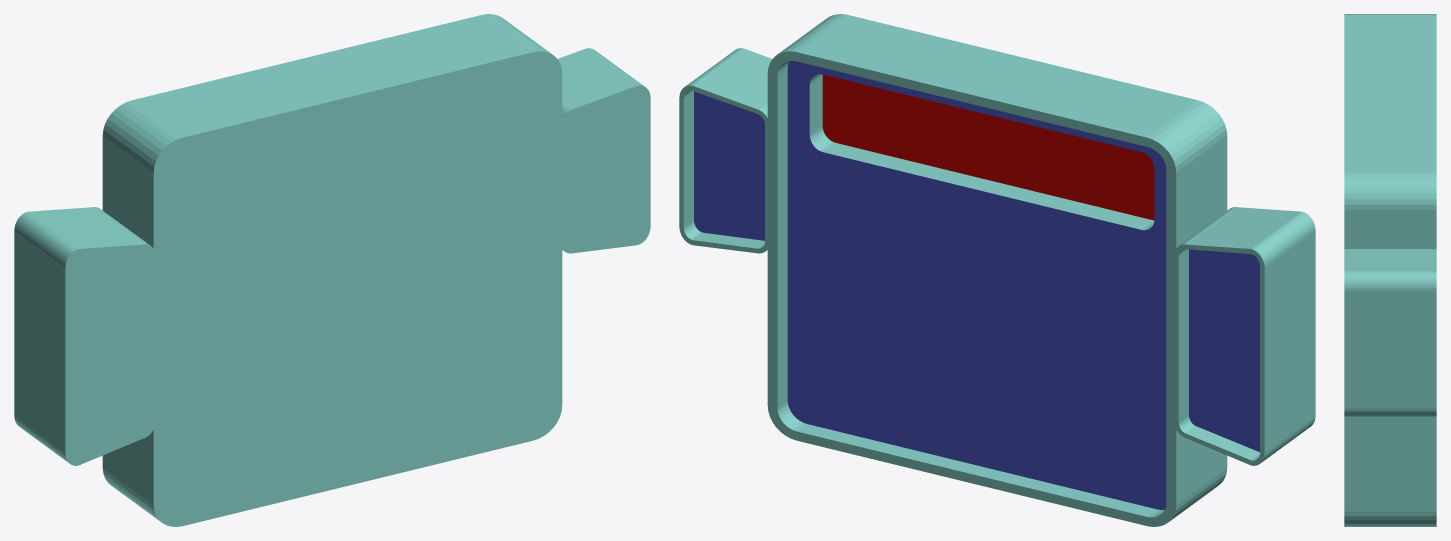
The model's file is combiner-FBX.fbx.
The picture shows the model from 3 angles, left to right: view 1: azimuth 30°, elevation 25°; view 2: azimuth 150°, elevation 25°; view 3: azimuth 270°, elevation 25°; orthographic projection. The views are drawn at different scales.
Parts seen in each view (by area): view 1: Combiner-body; view 2: Combiner-body; view 3: Combiner-body.
Part boxes in pixels (x1,y1,x2,y2): Combiner-body: [14, 14, 650, 526]; Combiner-body: [679, 14, 1315, 526]; Combiner-body: [1344, 14, 1436, 526].
Size of the model in its own units: 72820 by 46200 by 11000.
